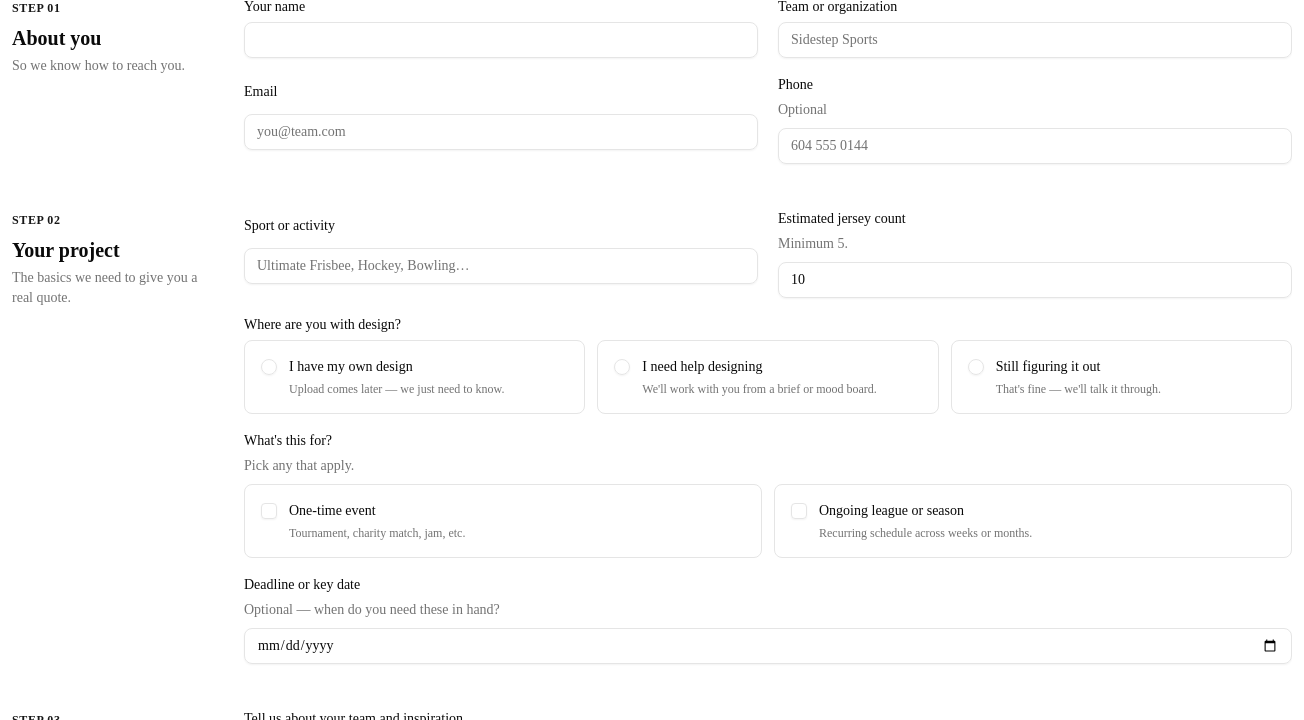
it: IntakeForm › surfaces RHF + zod validation errors when the user submits an empty form
The image size is (1304, 720).
Clear the number field labelled "Estimated jersey count" at (1035, 280), box [778,262,1292,298]
(page scrolled)
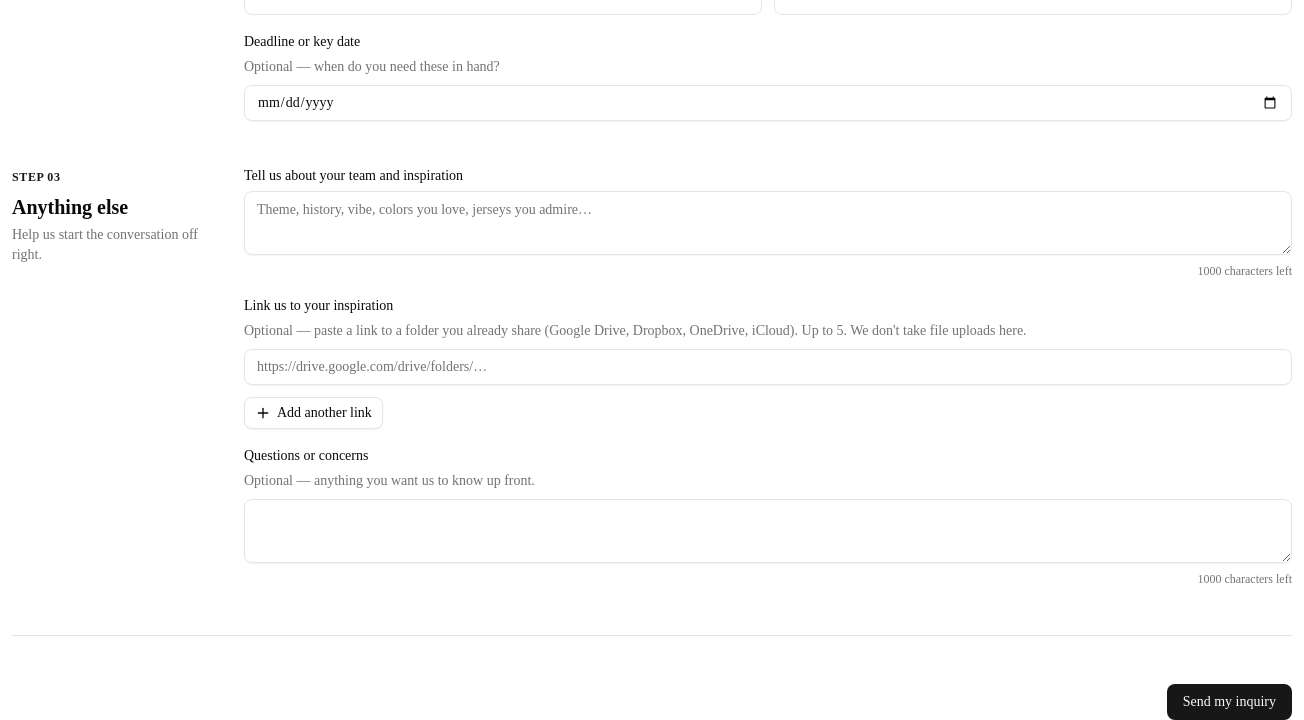
Click the button "Send my inquiry" at (1229, 702), box [1167,684,1292,719]
(page scrolled)
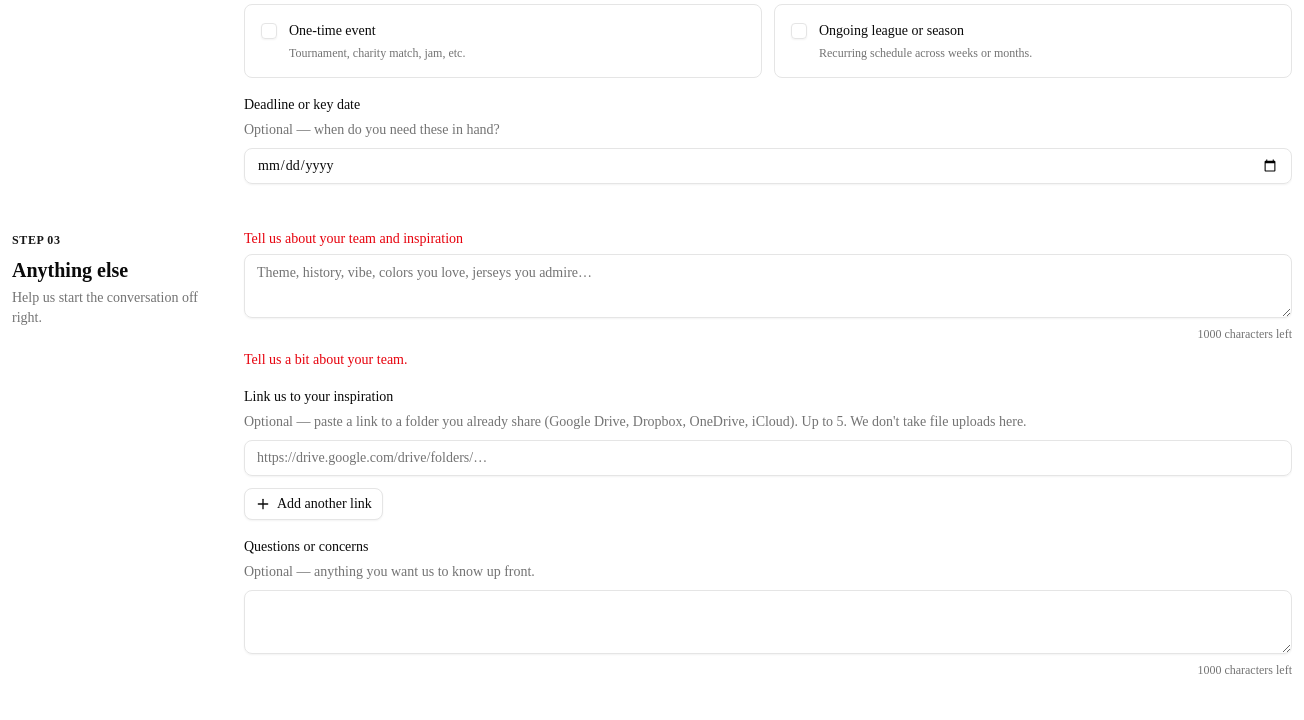
Check: the text "Tell us a bit about your team." is shown, box [244,352,408,367]
